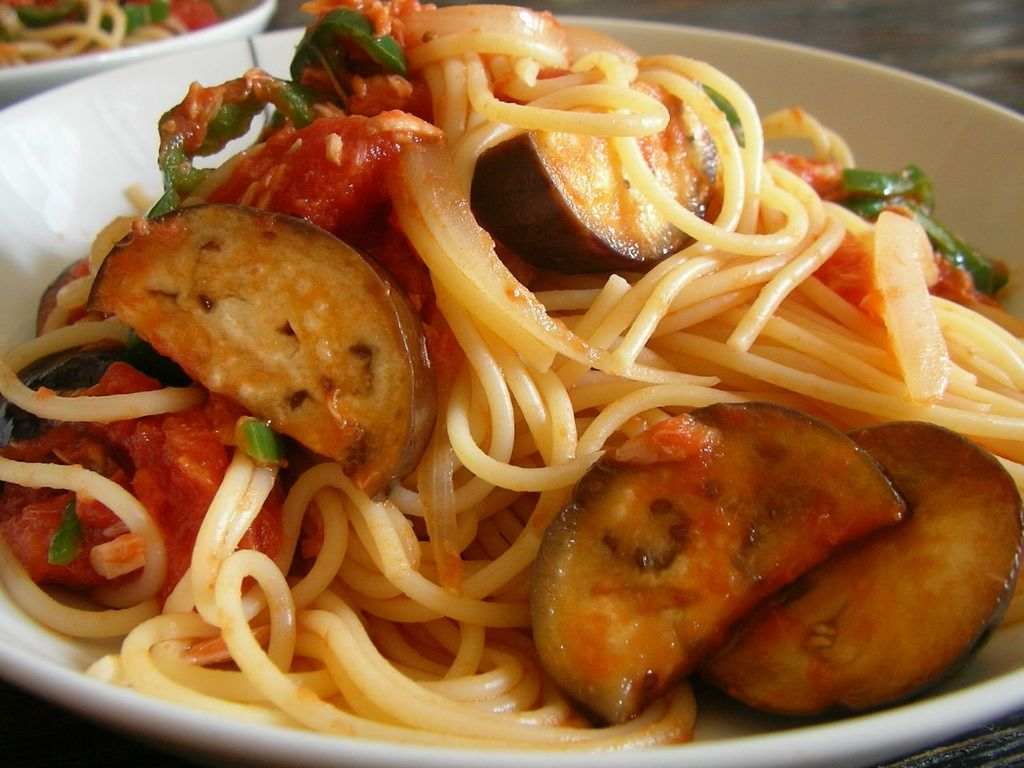pasta: (45, 35, 966, 757)
